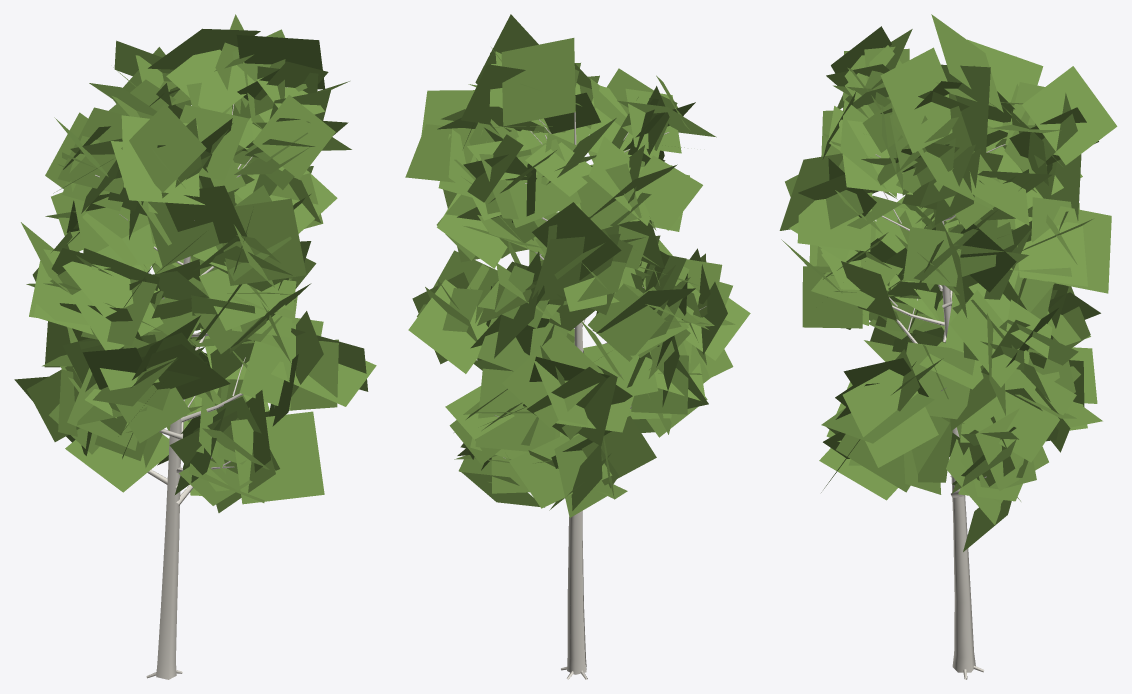
Rendered from birch-2-lod2.glb.
3 renders of one model, left to right at view 1: azimuth 30°, elevation 25°; view 2: azimuth 150°, elevation 25°; view 3: azimuth 270°, elevation 25°, orthographic. The views are drawn at different scales.
Parts seen in each view (by area): view 1: birch-2-lod2-foliage, birch-2-lod2-bark; view 2: birch-2-lod2-foliage, birch-2-lod2-bark; view 3: birch-2-lod2-foliage, birch-2-lod2-bark.
Boxes of the visible parts, x1=… form: birch-2-lod2-foliage: x1=14, y1=14, x2=376, y2=512; birch-2-lod2-bark: x1=95, y1=87, x2=287, y2=679; birch-2-lod2-foliage: x1=405, y1=14, x2=750, y2=517; birch-2-lod2-bark: x1=494, y1=112, x2=706, y2=679; birch-2-lod2-foliage: x1=779, y1=14, x2=1117, y2=551; birch-2-lod2-bark: x1=875, y1=144, x2=1005, y2=679.
Size of the model in its own units: 14.1 by 28.44 by 13.04.
